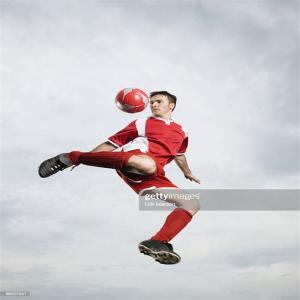Football: (116, 87, 149, 113)
